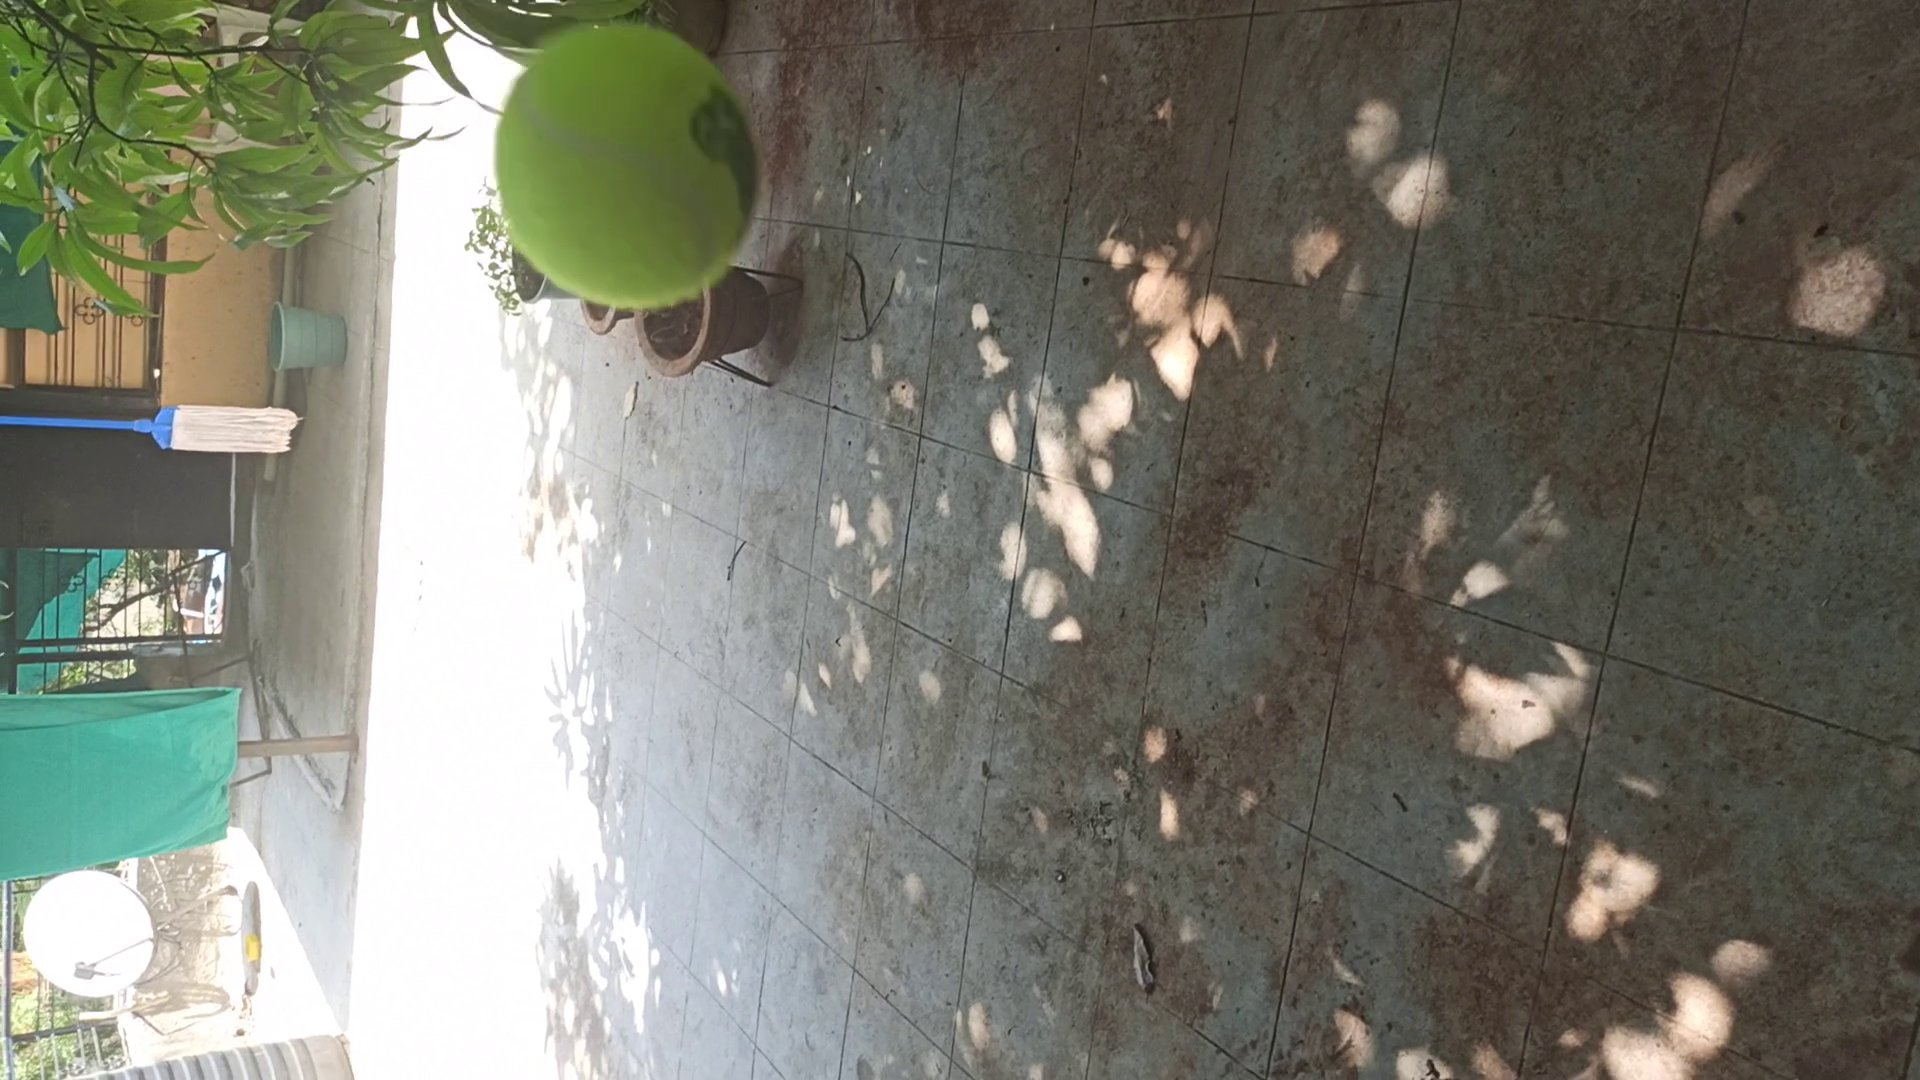Tennis-Ball: (495, 26, 760, 309)
